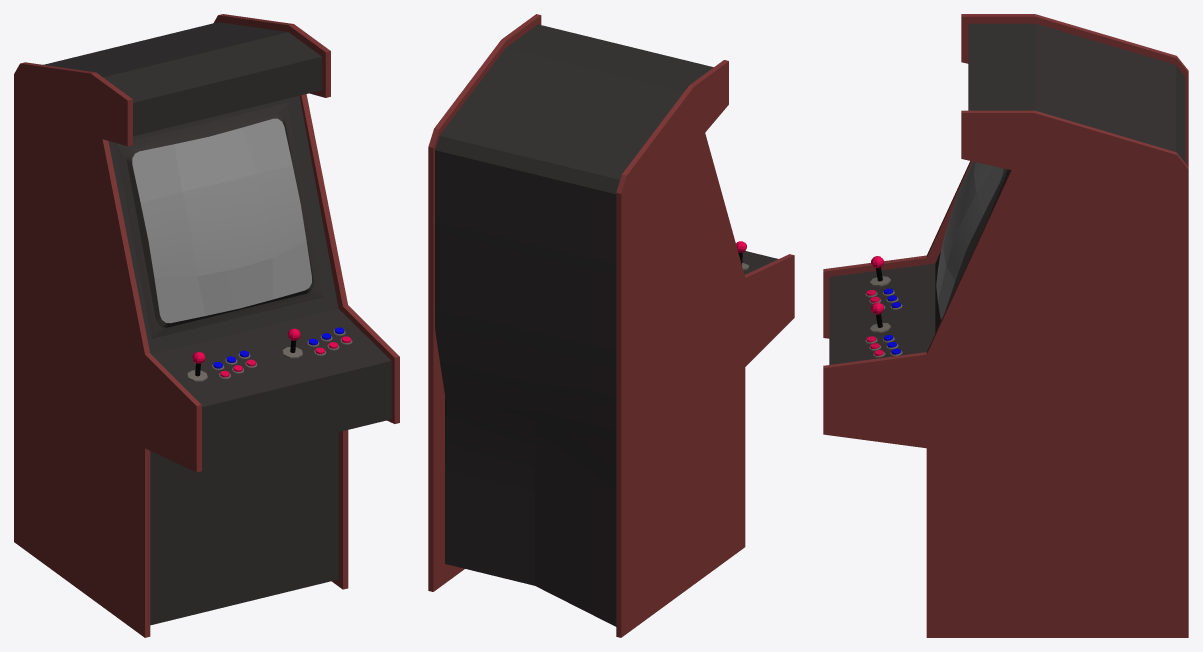
Rendered from Machine.fbx.
3 renders of one model, left to right at view 1: azimuth 30°, elevation 25°; view 2: azimuth 150°, elevation 25°; view 3: azimuth 270°, elevation 25°, orthographic. The views are drawn at different scales.
Visible parts, largest first — view 1: polySurface3, polySurface5, polySurface1; view 2: polySurface3, polySurface5, polySurface1; view 3: polySurface1, polySurface3, polySurface5.
Part boxes in pixels (x1,y1,x2,y2): polySurface3: (43, 22, 391, 625); polySurface5: (14, 62, 201, 637); polySurface1: (213, 14, 399, 589); polySurface3: (435, 24, 778, 626); polySurface5: (616, 60, 794, 637); polySurface1: (428, 14, 541, 591); polySurface1: (823, 110, 1188, 637); polySurface3: (829, 23, 1185, 364); polySurface5: (823, 14, 1188, 338).
Bounding box in the file's own units: 5.82 × 14.37 × 9.07.
